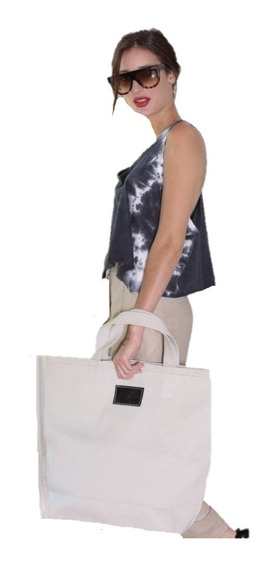cartera: (33, 306, 215, 534)
